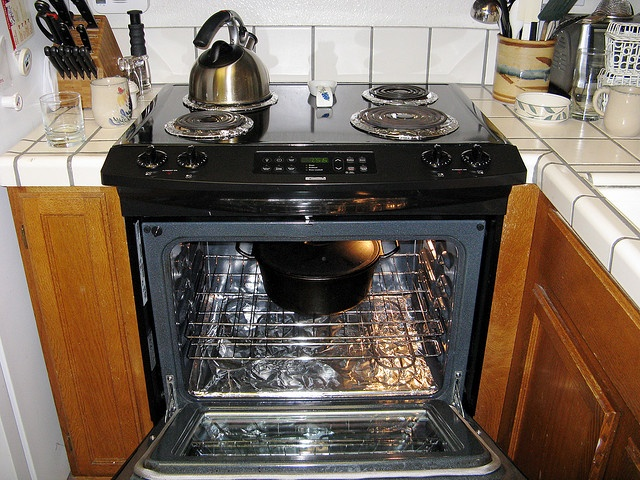cup: (90, 77, 223, 205), (40, 89, 128, 238)
